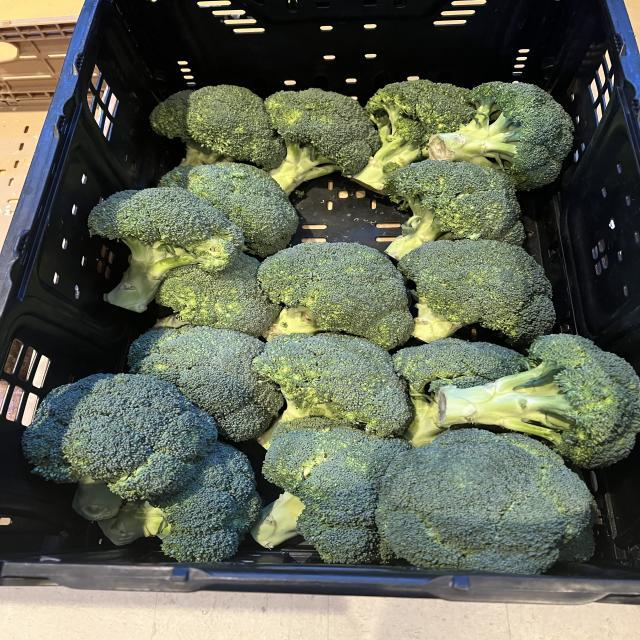Broccoli: (377, 429, 592, 574), (22, 374, 217, 520), (437, 335, 640, 469), (252, 428, 410, 564), (88, 188, 245, 312), (98, 442, 260, 562), (257, 242, 413, 350), (140, 326, 283, 441), (253, 334, 412, 436), (398, 239, 555, 342), (428, 81, 573, 190), (393, 339, 528, 448), (385, 160, 525, 260), (353, 80, 473, 194), (265, 89, 380, 194), (150, 85, 285, 170), (155, 252, 282, 336), (187, 162, 298, 258), (212, 511, 215, 514)
